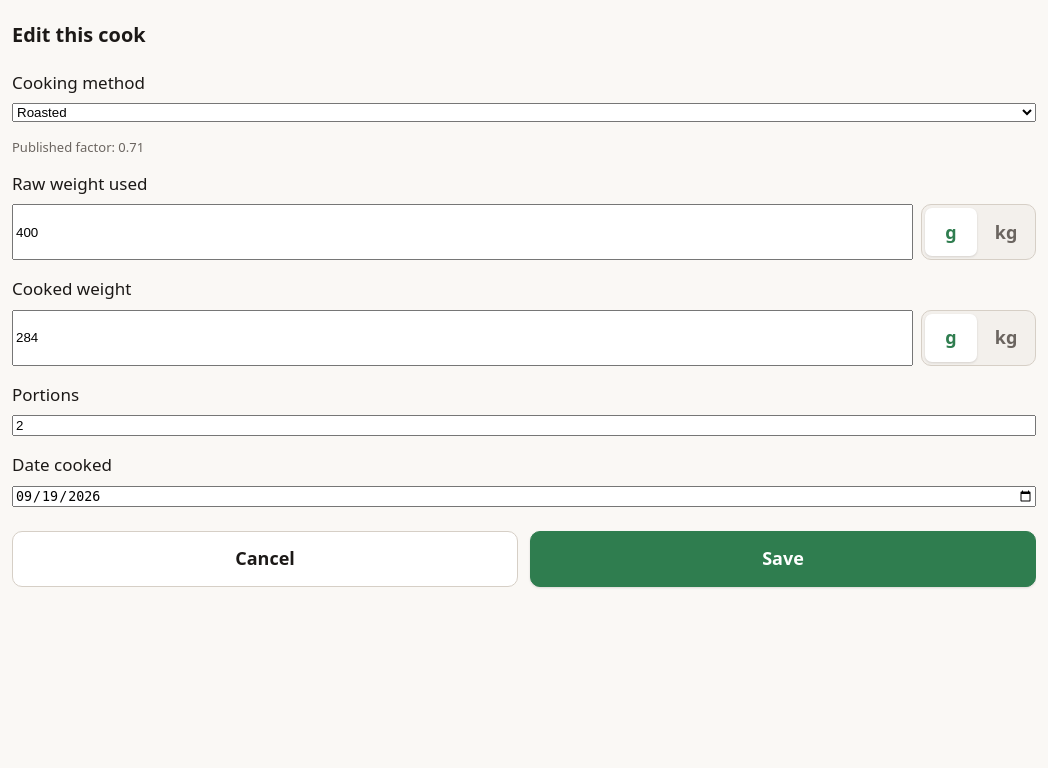
Scenario: CookSessionForm › refuses a corrected cooked weight below what has already been eaten
The image size is (1048, 768).
Replace the text in the number field labelled "Cooked weight" with "150" at (462,338), box [12,310,913,366]
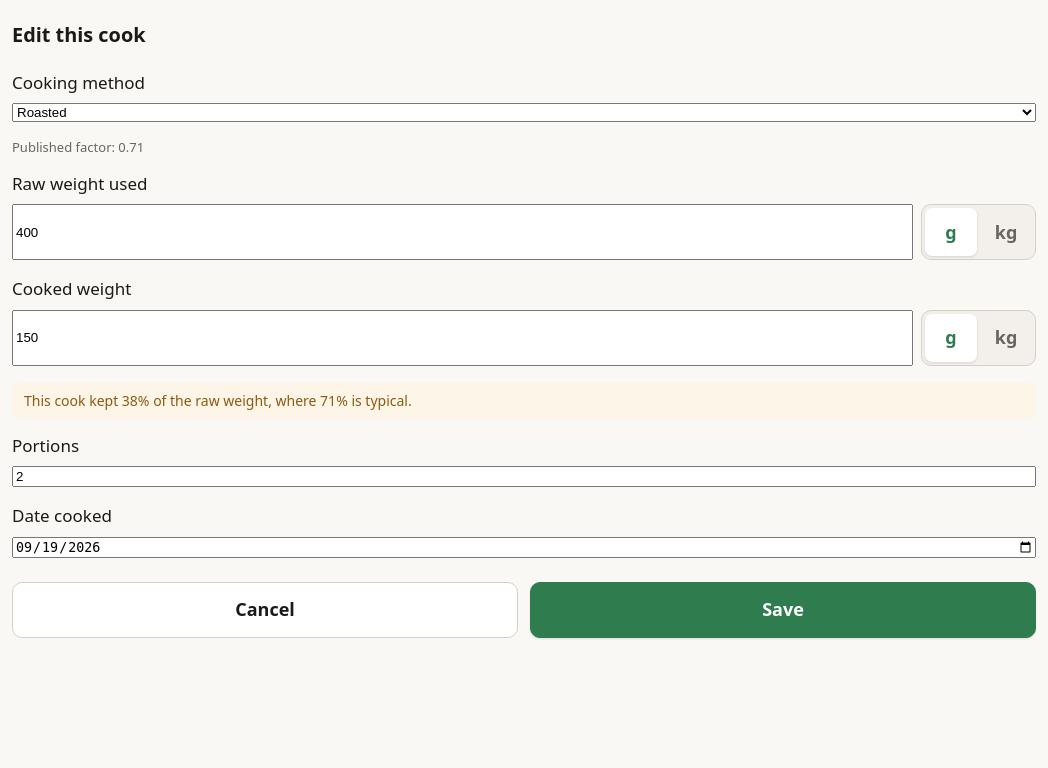
Click the button "Save" at (783,610), box [530,582,1036,638]
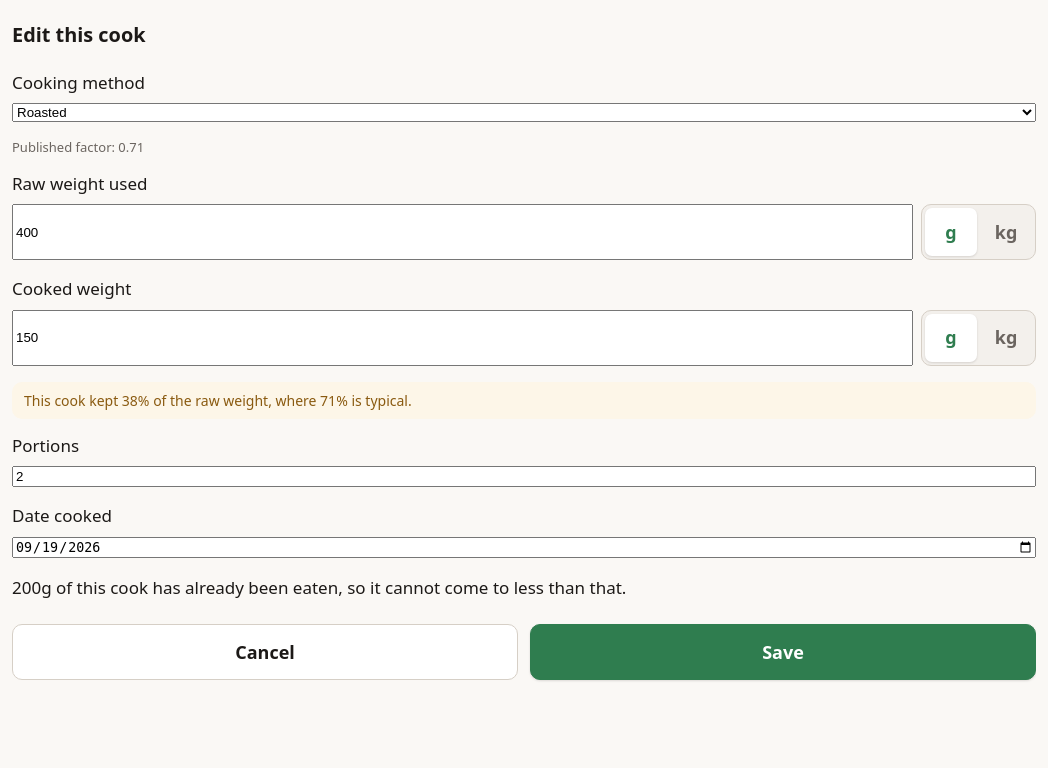
Expected: the message shows "200g", [12,576,626,599]
